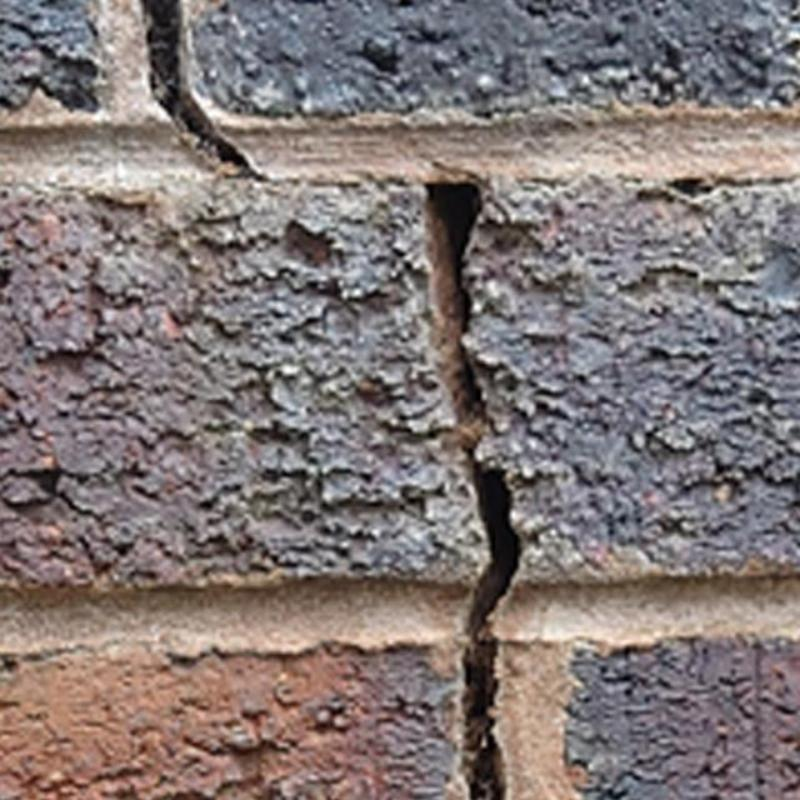crack: (427, 184, 520, 800), (143, 0, 245, 165)
